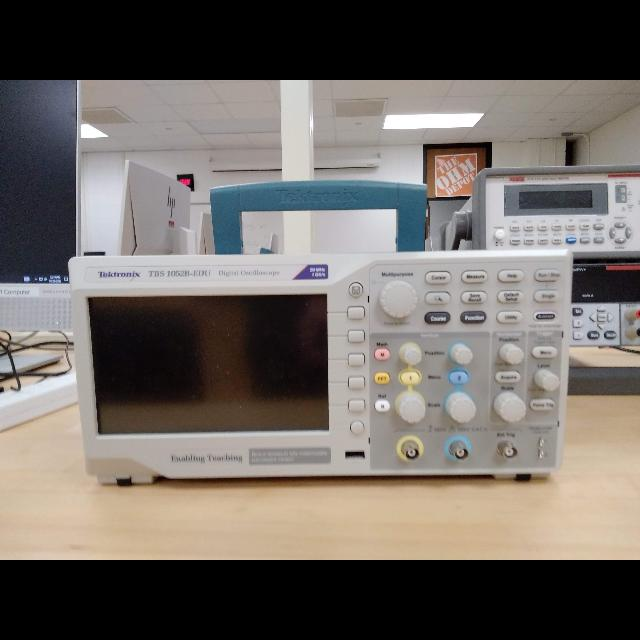Digital-Oscilloscope: (68, 250, 571, 478)
